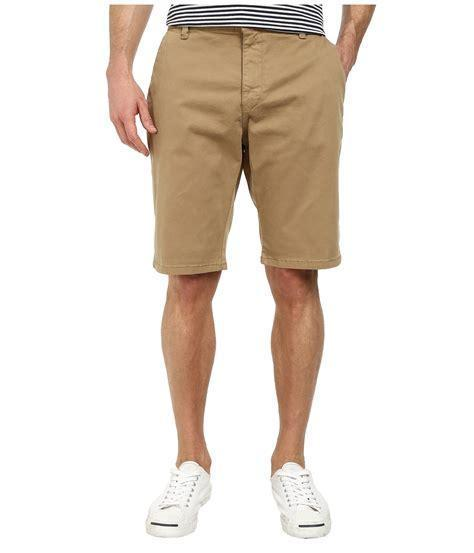short: (147, 25, 346, 276)
